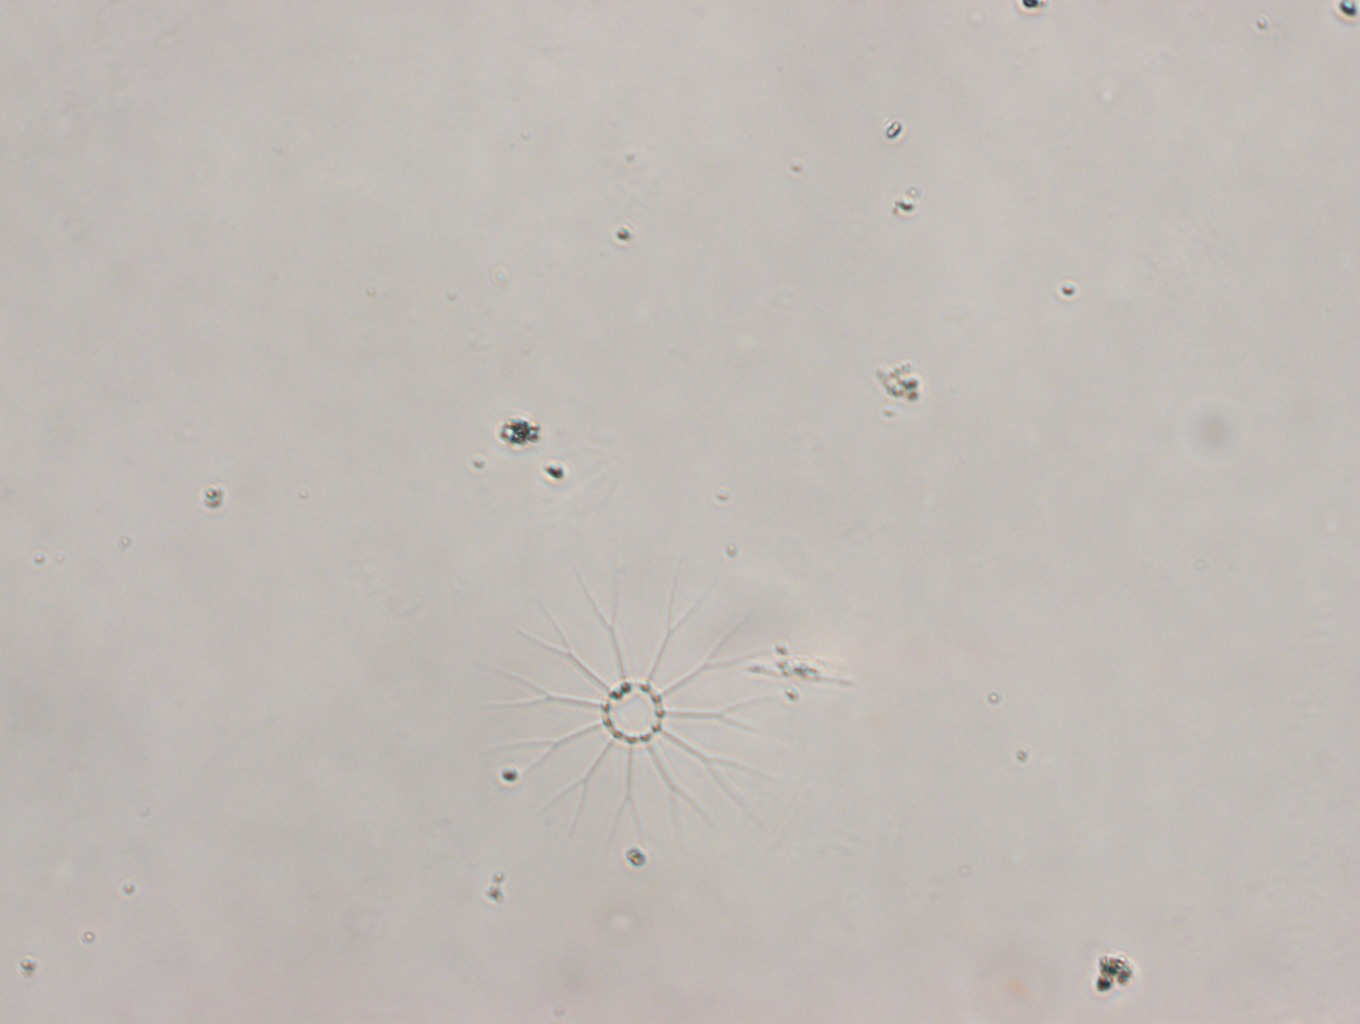bacteriastrum: (478, 558, 800, 861)
